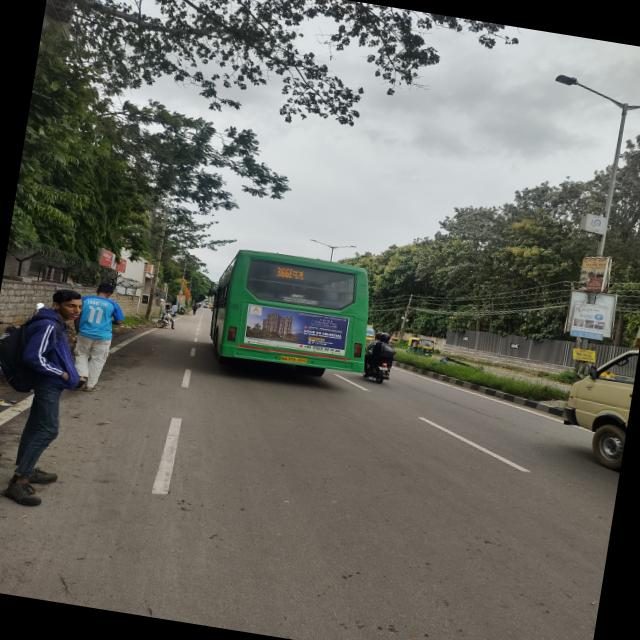bus: (210, 243, 379, 385)
display: (274, 264, 331, 286)
dnumber: (275, 266, 294, 280)
